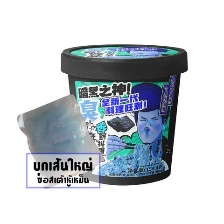paper_cup: (54, 39, 193, 189)
